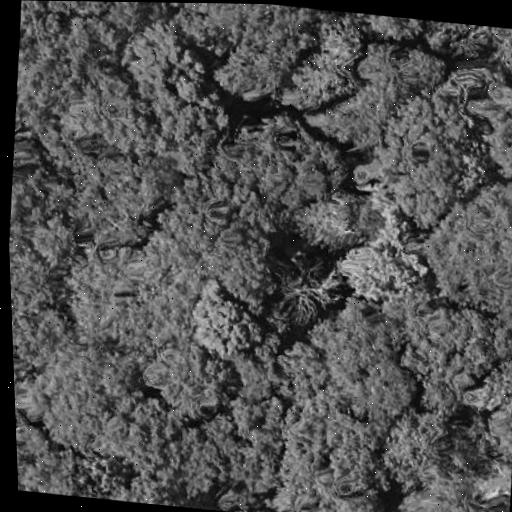tree-top: (368, 91, 489, 222), (317, 36, 433, 163), (11, 28, 131, 147), (20, 339, 141, 456), (220, 112, 343, 212), (272, 390, 379, 503), (173, 3, 314, 87), (57, 239, 163, 348), (160, 186, 272, 289), (424, 183, 512, 312), (395, 300, 499, 408), (276, 5, 378, 114), (58, 146, 165, 246), (319, 307, 416, 416), (112, 17, 215, 105), (136, 340, 237, 422), (146, 423, 235, 512), (8, 213, 72, 330), (264, 246, 348, 331), (332, 232, 424, 307), (376, 411, 459, 491), (187, 283, 265, 365), (395, 464, 512, 512), (219, 324, 287, 404), (466, 71, 512, 189), (284, 188, 361, 255), (15, 412, 69, 495), (268, 338, 329, 404), (450, 23, 512, 76), (344, 12, 435, 45), (68, 450, 124, 501), (282, 486, 386, 512), (482, 373, 512, 462), (110, 467, 175, 506), (38, 1, 111, 17)
